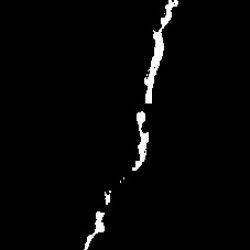crack: (143, 1, 178, 104), (132, 111, 149, 172), (85, 213, 106, 247), (105, 190, 112, 205)
